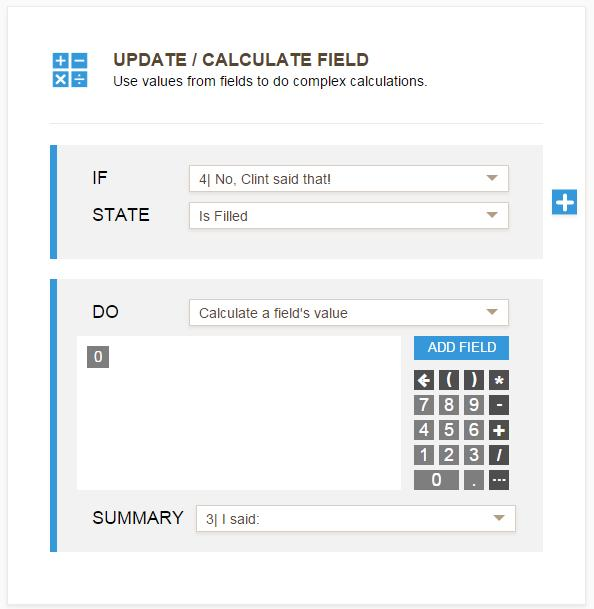button: (410, 333, 514, 363), (548, 183, 581, 220), (436, 416, 462, 443)
dropdown: (191, 499, 521, 542), (185, 198, 517, 235), (182, 297, 513, 329), (184, 163, 513, 195)
